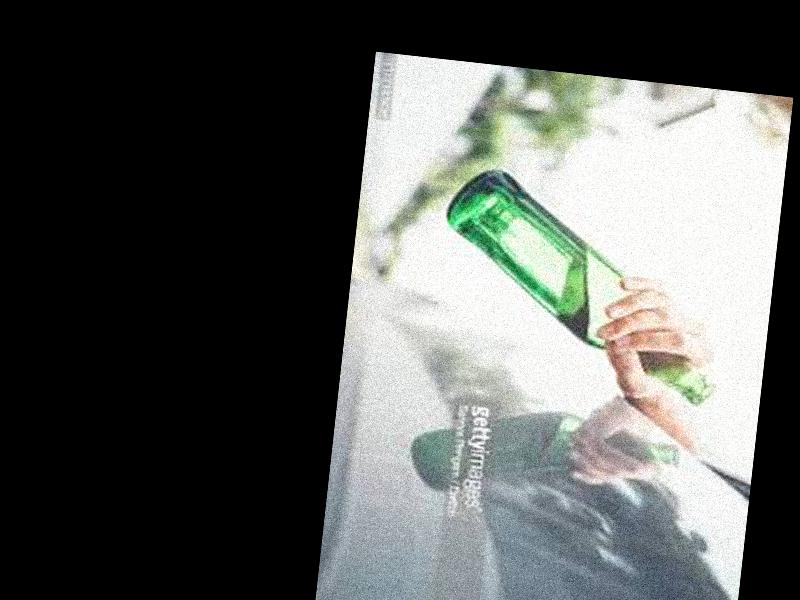Beer: (429, 165, 731, 410)
